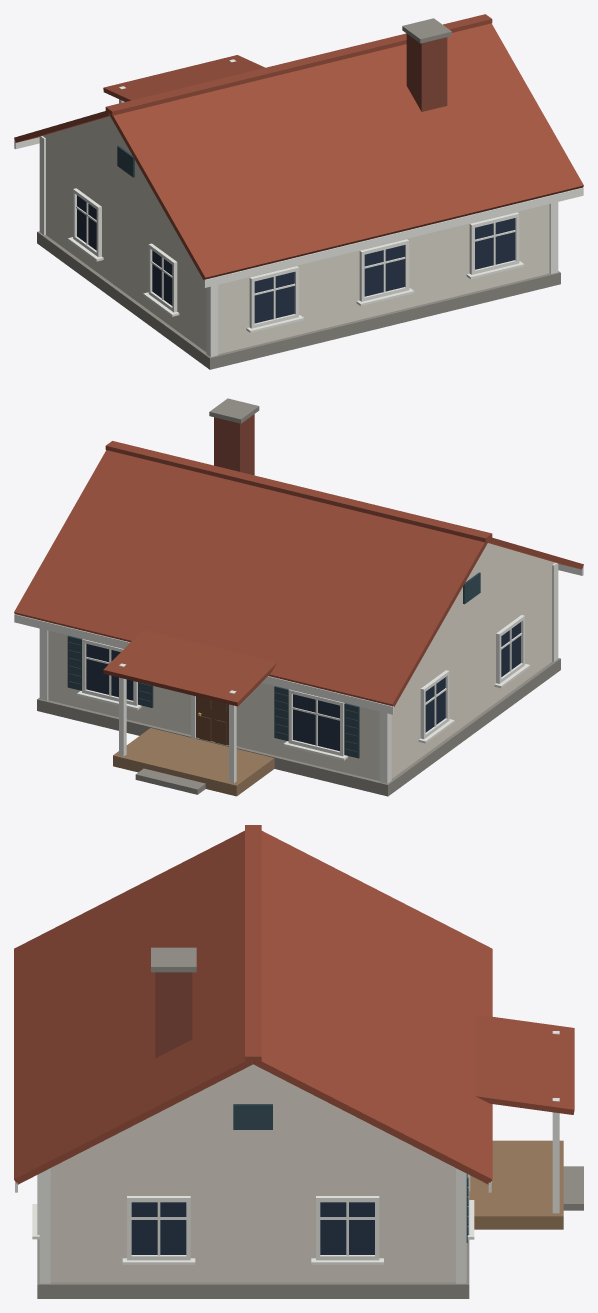
The model's file is house_1f.glb.
3 views of the same model, one above another, from view 1: azimuth 30°, elevation 25°; view 2: azimuth 150°, elevation 25°; view 3: azimuth 270°, elevation 25° (orthographic). The views are drawn at different scales.
Visible parts, largest first — view 1: house_1f__Body; view 2: house_1f__Body; view 3: house_1f__Body.
Part boxes in pixels (x1,y1,x2,y2): house_1f__Body: (14,14,583,369); house_1f__Body: (14,398,583,796); house_1f__Body: (14,825,583,1298).
Size of the model in its own units: 11.04 by 6.52 by 11.48.
